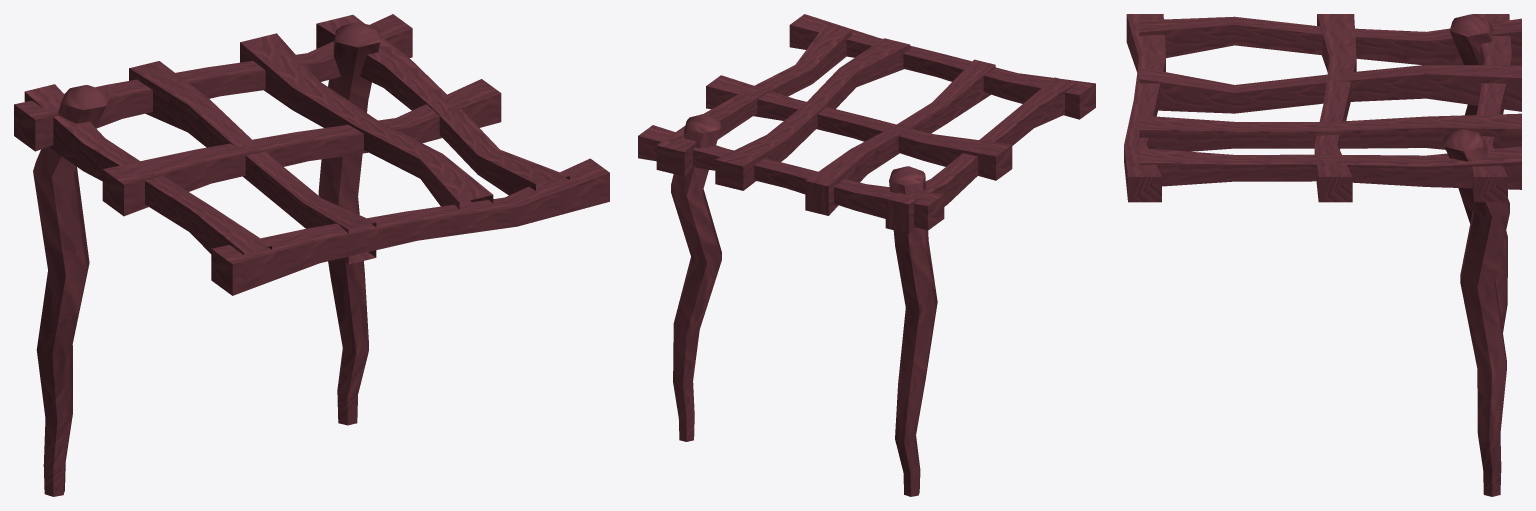
The model's file is porche2.fbx.
3 views of the same model, side by side, from view 1: azimuth 30°, elevation 25°; view 2: azimuth 150°, elevation 25°; view 3: azimuth 270°, elevation 25° (orthographic). The views are drawn at different scales.
Parts seen in each view (by area): view 1: pCube55; view 2: pCube55; view 3: pCube55.
Boxes of the visible parts, x1=… form: pCube55: x1=14, y1=14, x2=609, y2=496; pCube55: x1=638, y1=14, x2=1095, y2=496; pCube55: x1=1124, y1=14, x2=1521, y2=496.
Size of the model in its own units: 9.11 by 9.48 by 9.47.
